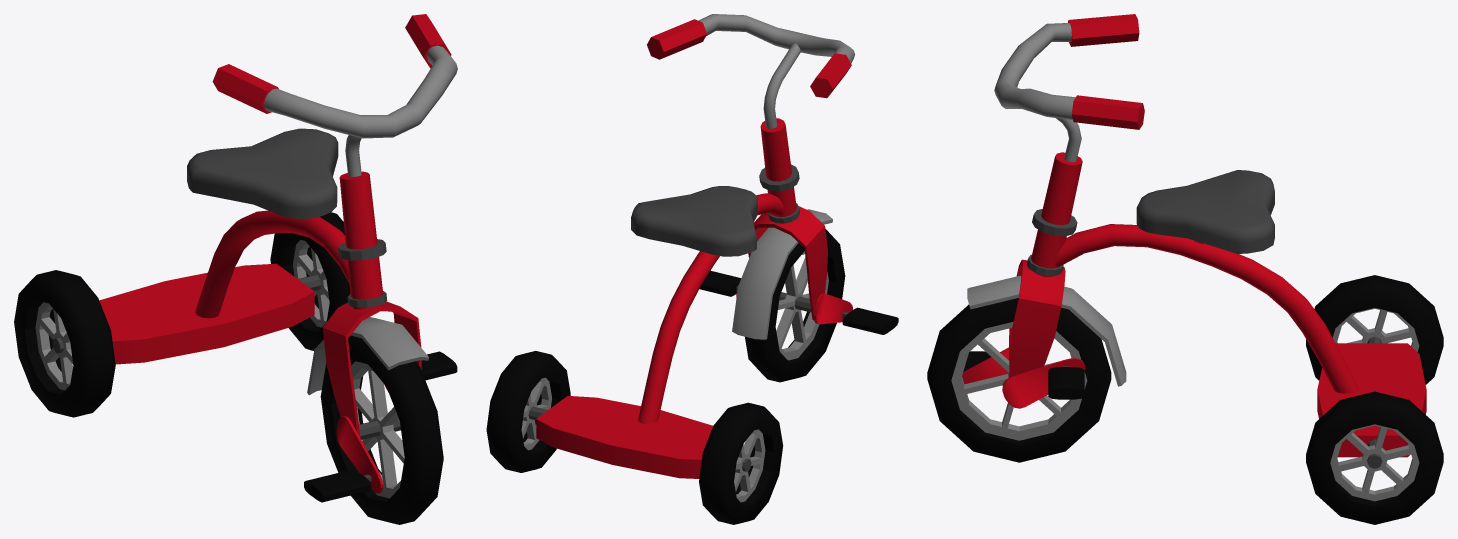
The model's file is SM_Tricycle.fbx.
The picture shows the model from 3 angles, left to right: view 1: azimuth 30°, elevation 25°; view 2: azimuth 150°, elevation 25°; view 3: azimuth 270°, elevation 25°; orthographic projection. The views are drawn at different scales.
Parts seen in each view (by area): view 1: Tricycle; view 2: Tricycle; view 3: Tricycle.
Part boxes in pixels (box(x1,y1,x2,y2)): Tricycle: box(14, 14, 457, 524); Tricycle: box(486, 14, 898, 524); Tricycle: box(927, 14, 1443, 524).
Bounding box in the file's own units: 82.84 × 119 × 138.
